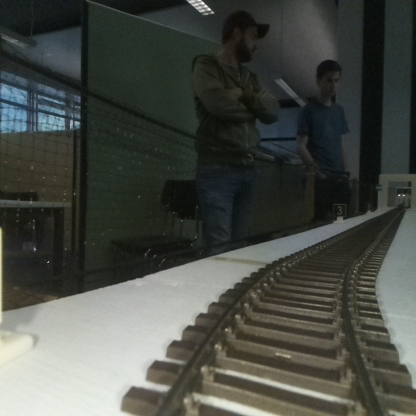black-stop-3: (333, 203, 345, 222)
